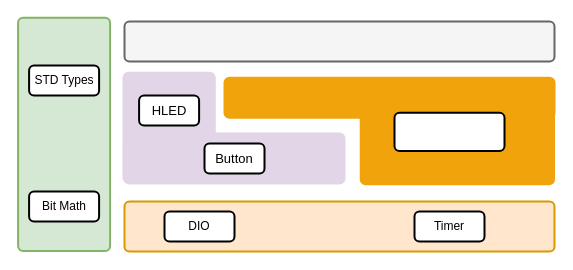
Image size: 573x270. Some labels were removed from this diagram. The box of each missing label's shape, as (x1, y1, x2, y2) in pixels:
APP layere: (123, 20, 555, 62)
SOS: (393, 111, 505, 151)
